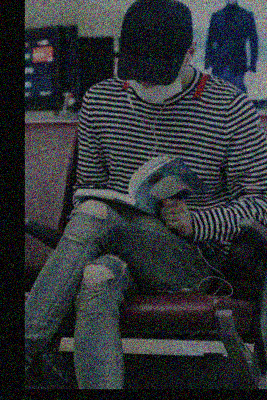mask_weared_incorrect: (129, 65, 185, 105)
